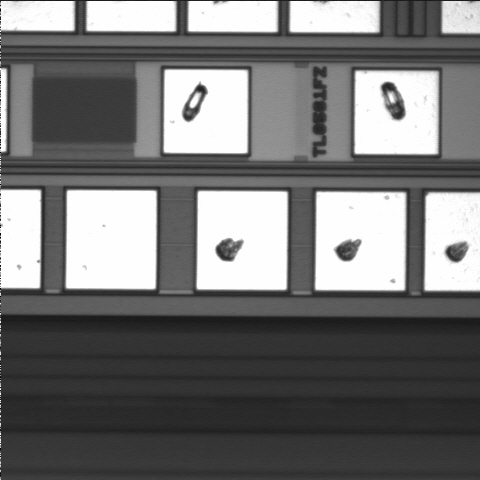pad: (315, 192, 406, 290), (66, 190, 156, 289), (197, 191, 287, 290), (164, 70, 248, 153), (355, 71, 438, 154)
